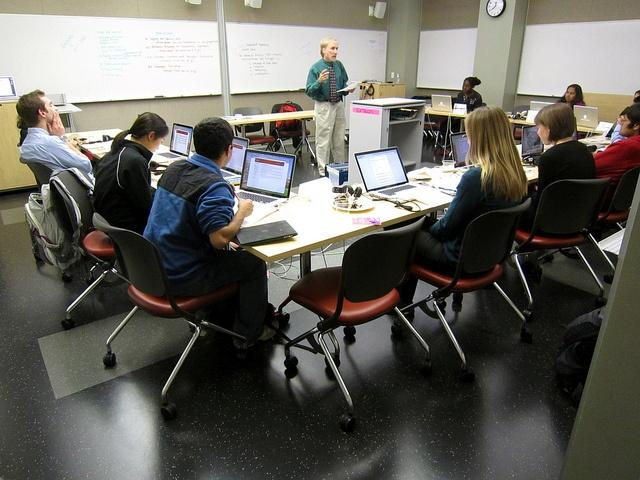Kursi: (91, 213, 249, 419), (281, 214, 428, 430), (404, 198, 532, 378)
Whiteboard: (0, 12, 223, 107), (225, 18, 386, 93)
